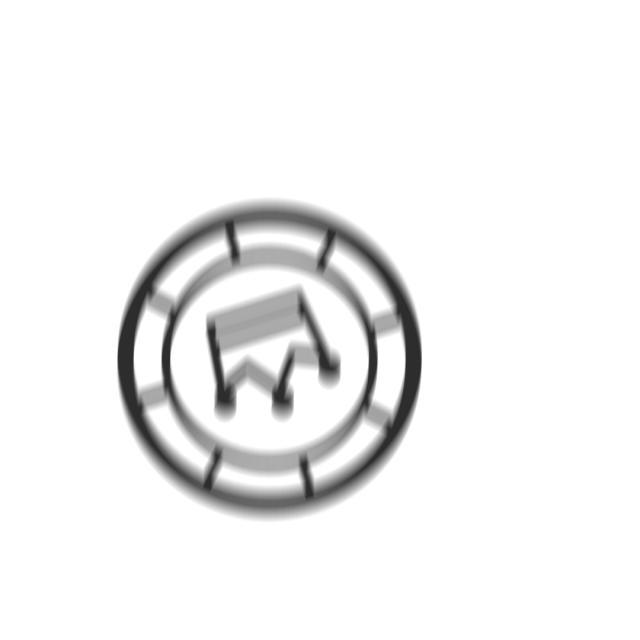coin: (109, 193, 435, 528)
